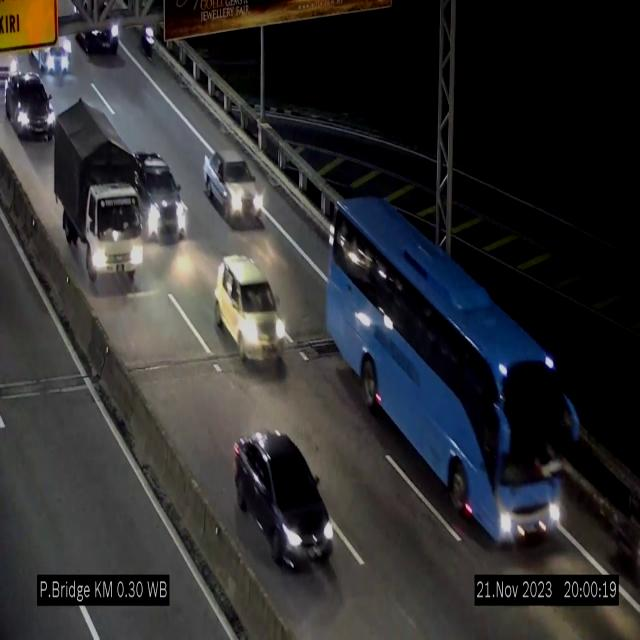Bus: (322, 190, 579, 545)
Car: (235, 431, 334, 566), (211, 252, 287, 369), (136, 146, 192, 245), (203, 148, 265, 226), (79, 4, 121, 62)
Motorcycle: (136, 12, 162, 66)
Truck: (52, 96, 143, 287), (2, 67, 56, 145)
